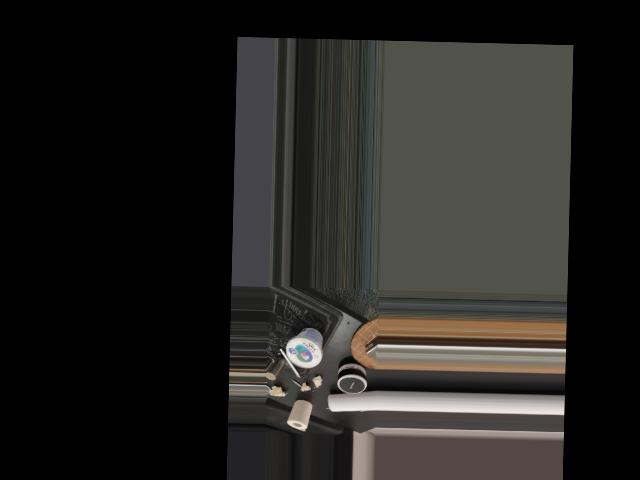cotage: (285, 324, 321, 366)
